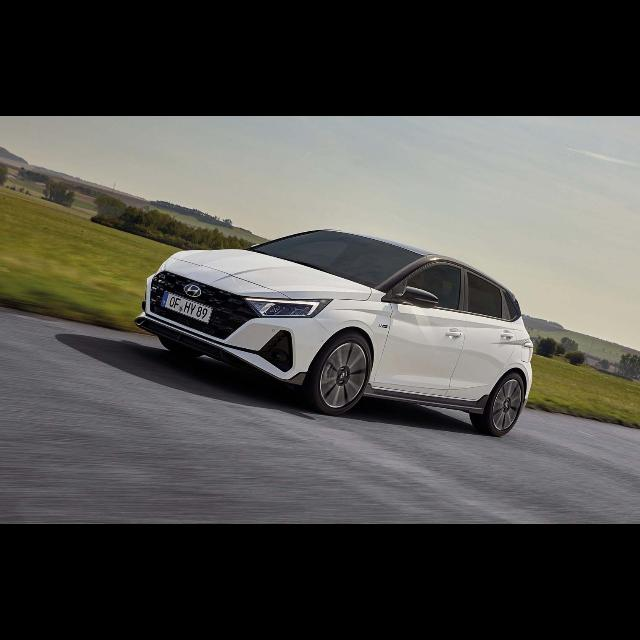number-plate: (164, 294, 211, 323)
vehicles: (138, 226, 533, 443)
